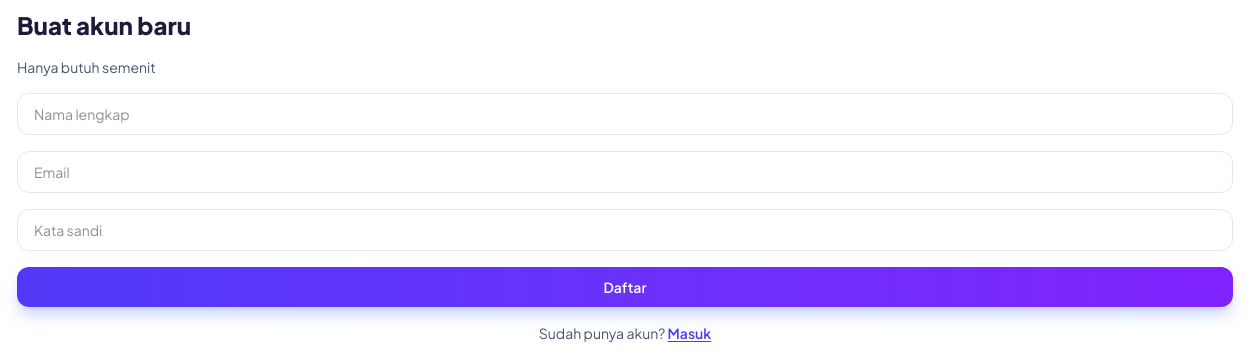
Test: RegisterPage › berhasil membuat akun dan redirect ke halaman login
In the field labelled "Nama lengkap": (625, 114) [17, 93, 1233, 135], type "Karina Putri Sion"
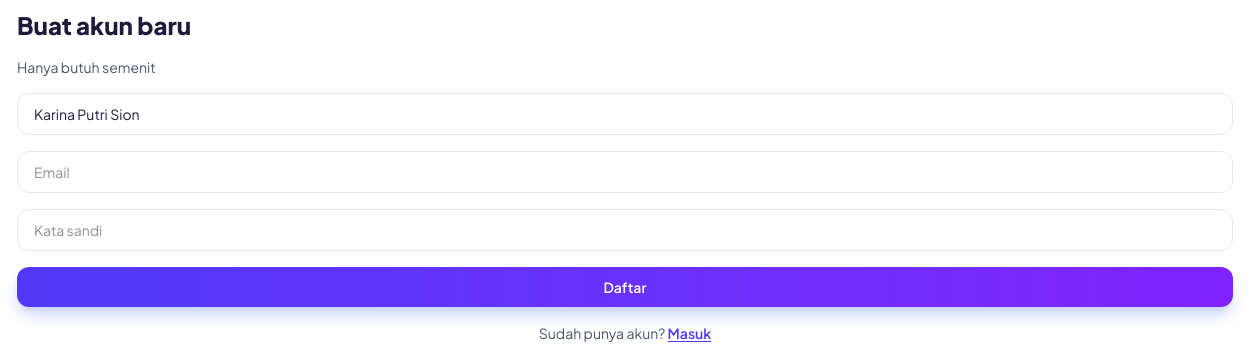
In the field labelled "Email": (625, 172) [17, 151, 1233, 193], type "karina@example.com"
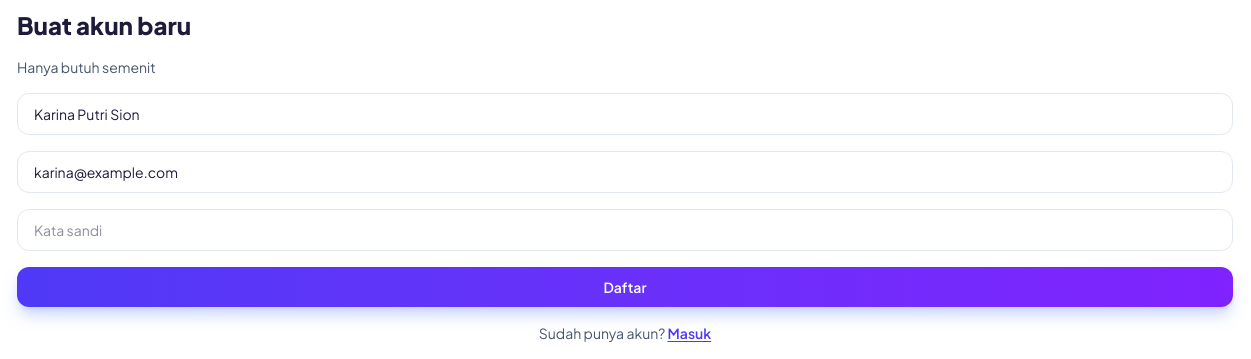
In the password field labelled "Kata sandi": (625, 230) [17, 209, 1233, 251], type "password123"
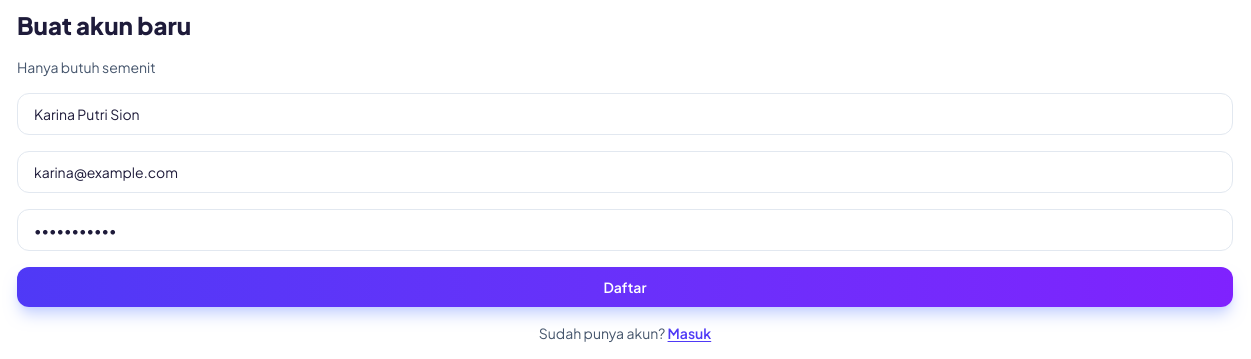
Click the button "Daftar": (625, 287) [17, 267, 1233, 307]
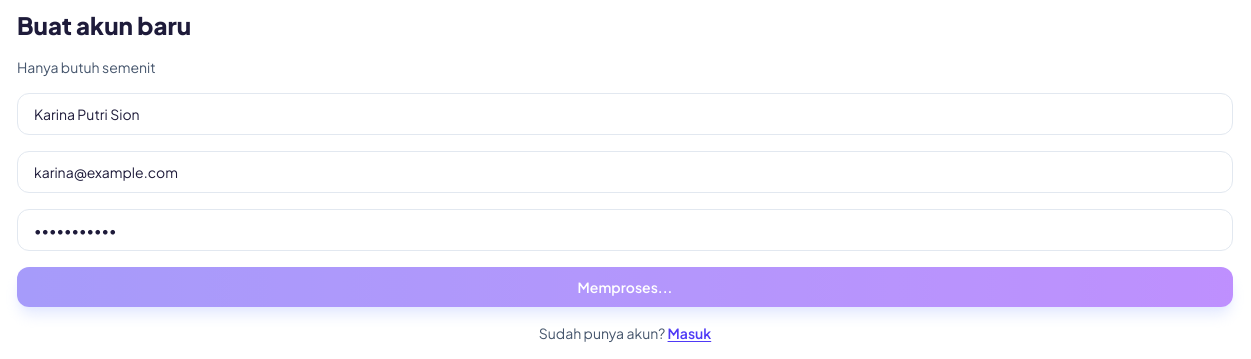
expect the button "Memproses..." is disabled: met, box [17, 267, 1233, 307]
